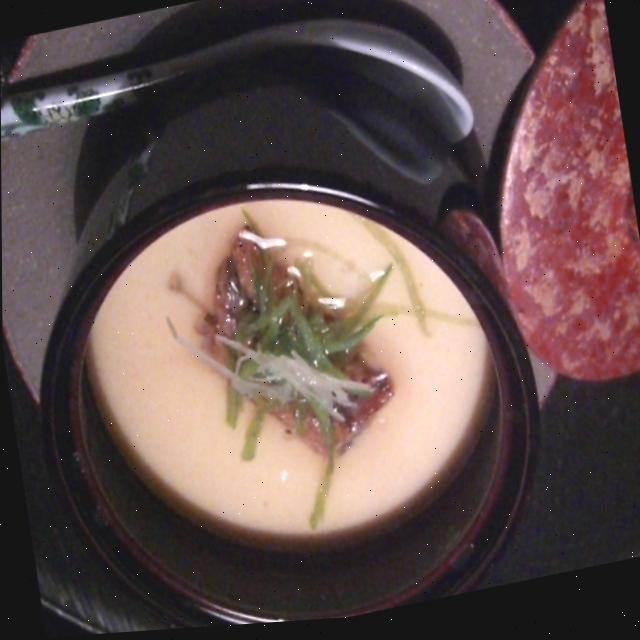鸡蛋料理: (7, 37, 565, 640)
